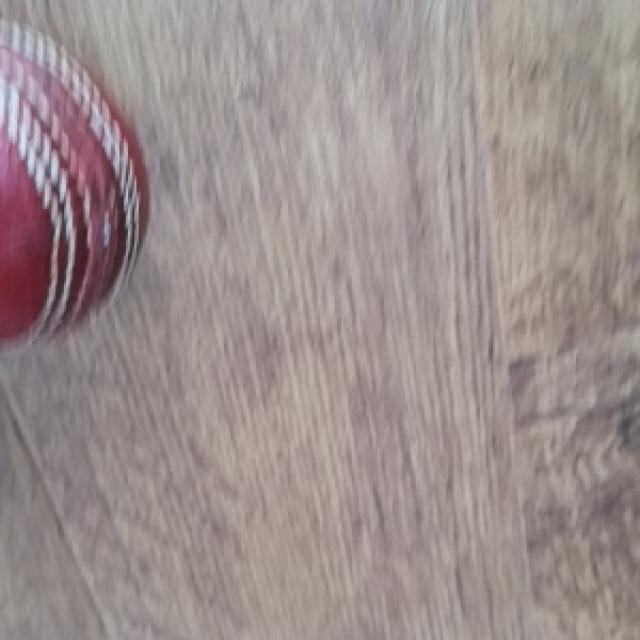ball: (0, 23, 151, 356)
